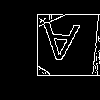A: (38, 22, 80, 71)
